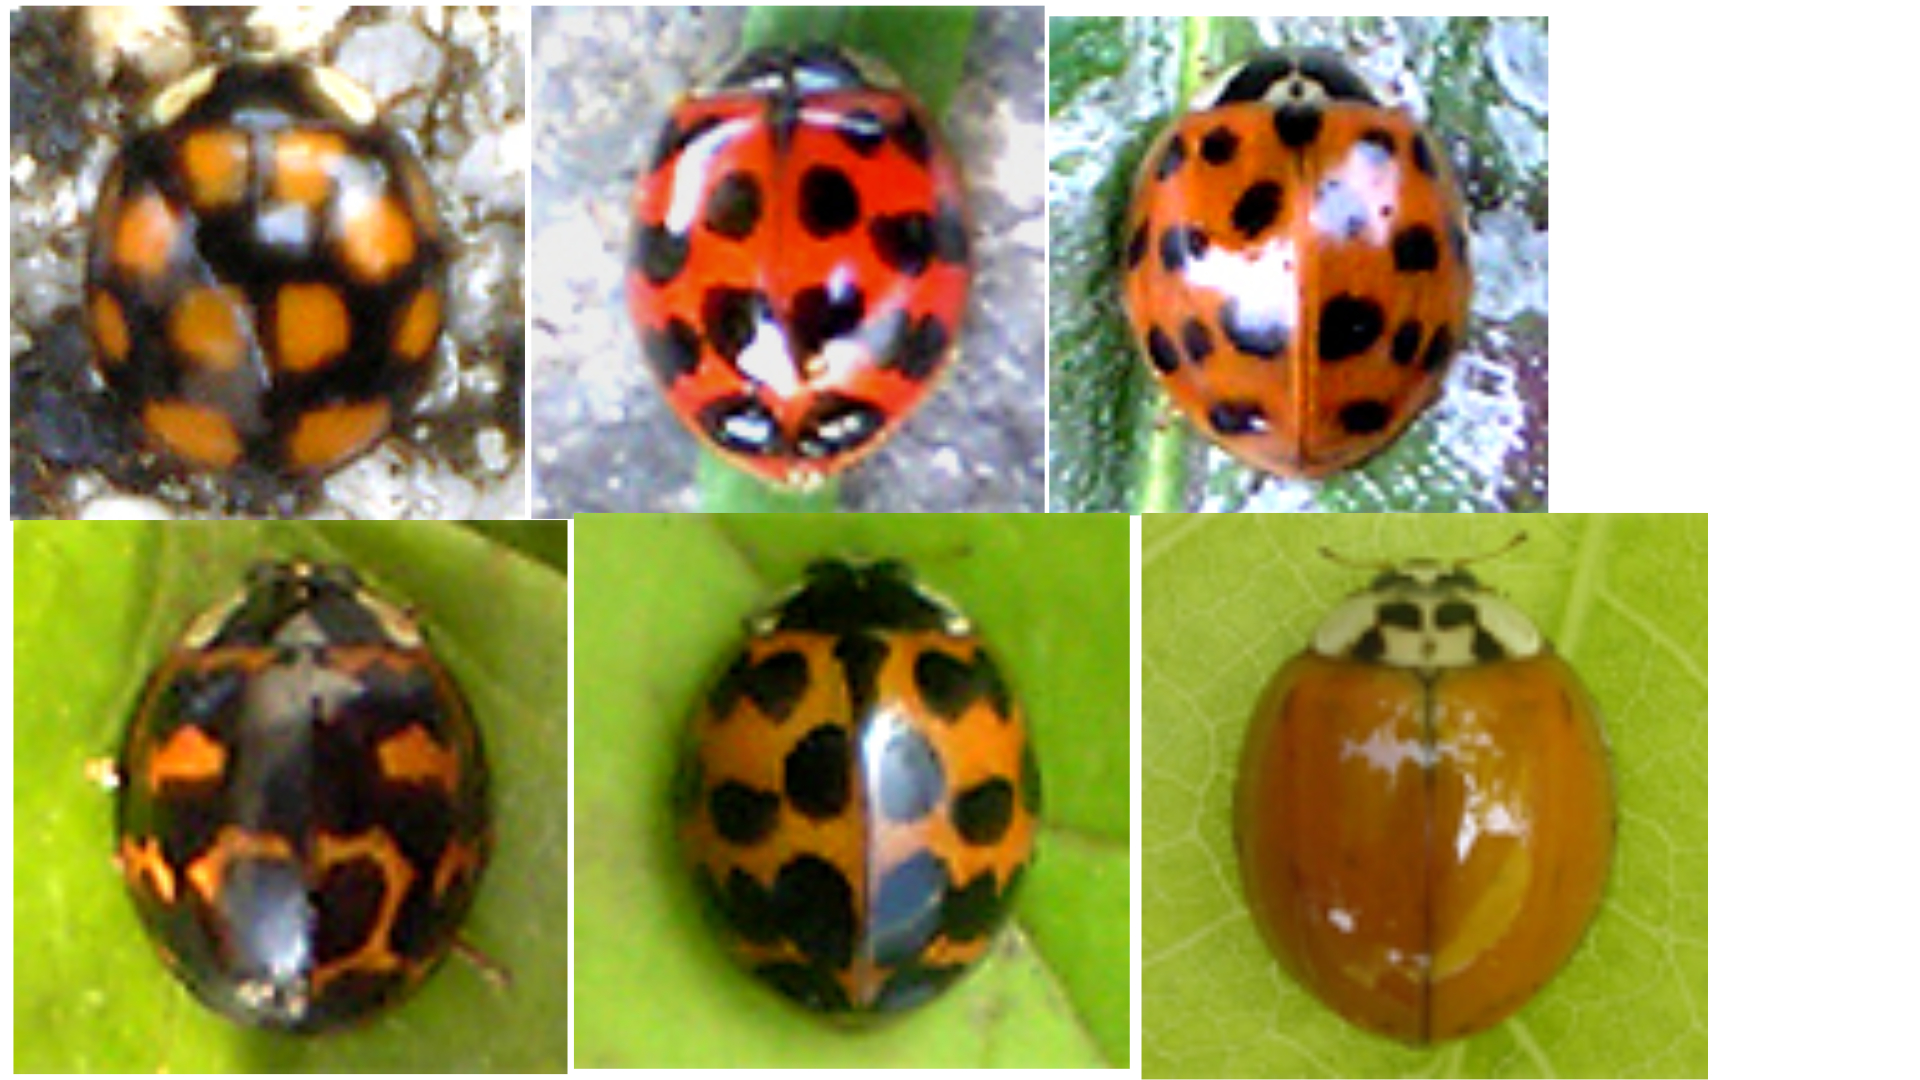other: (109, 563, 487, 1034)
rash: (76, 46, 451, 480)
red: (1222, 555, 1619, 1054), (671, 556, 1040, 1029), (625, 42, 978, 480), (1110, 44, 1470, 471)
